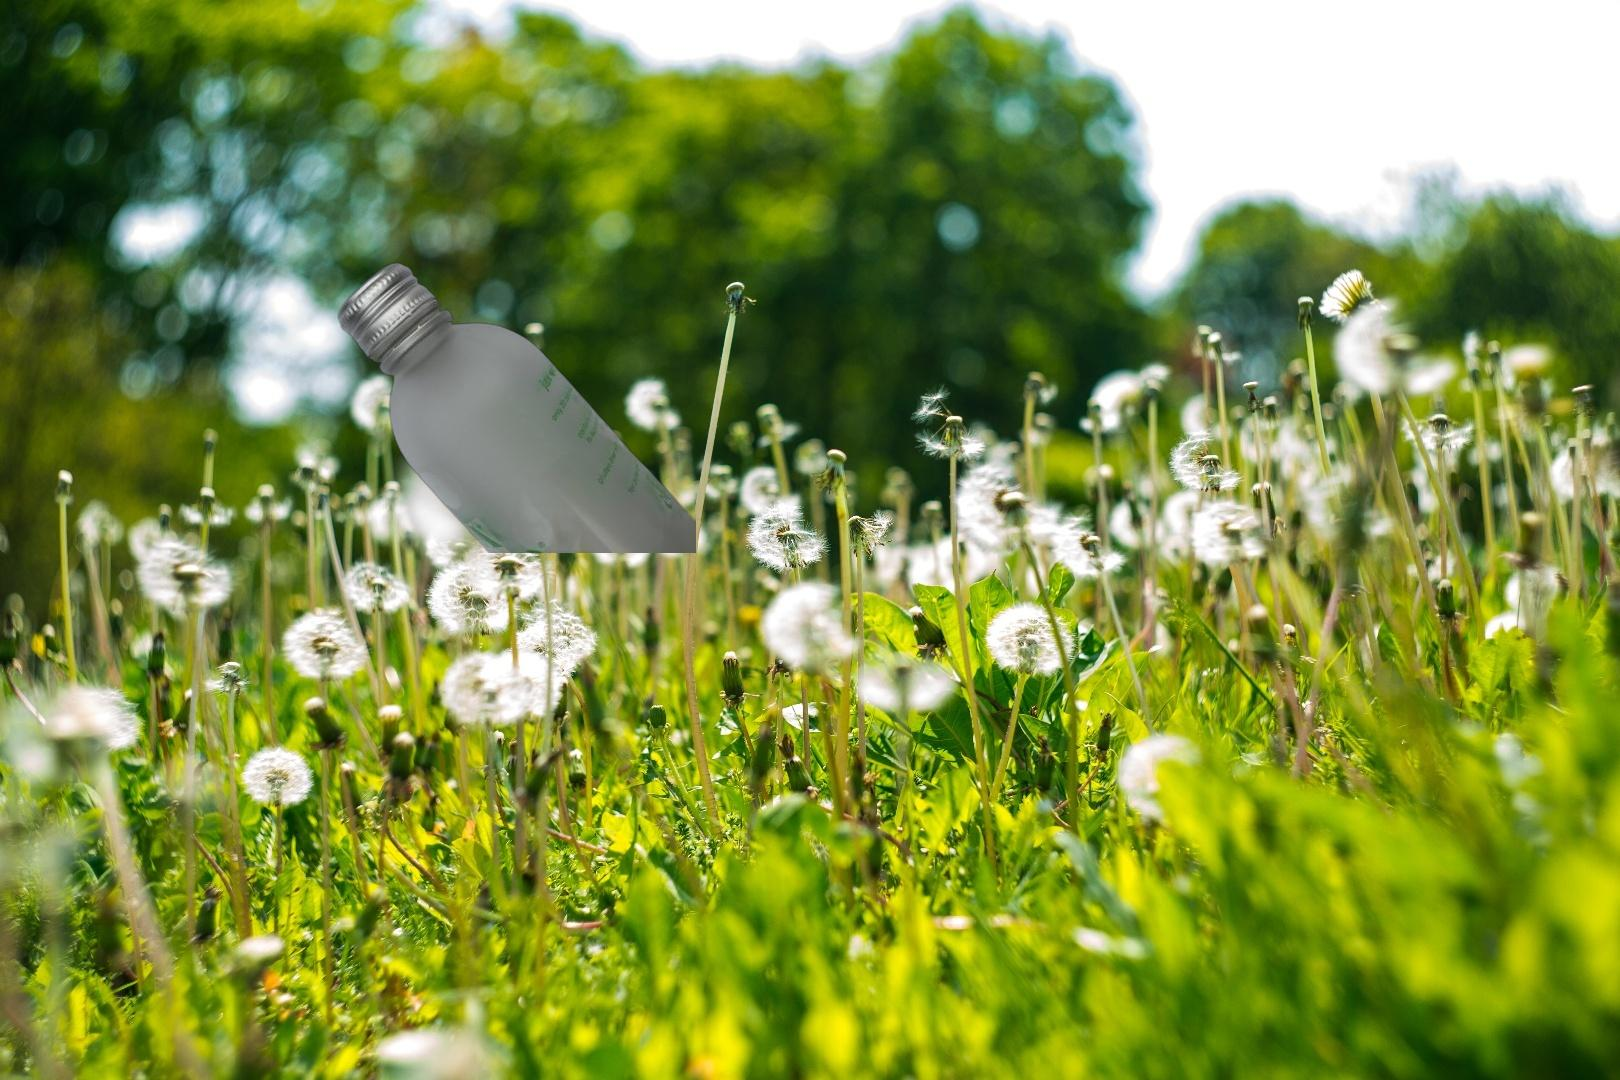glass: (334, 260, 695, 553)
